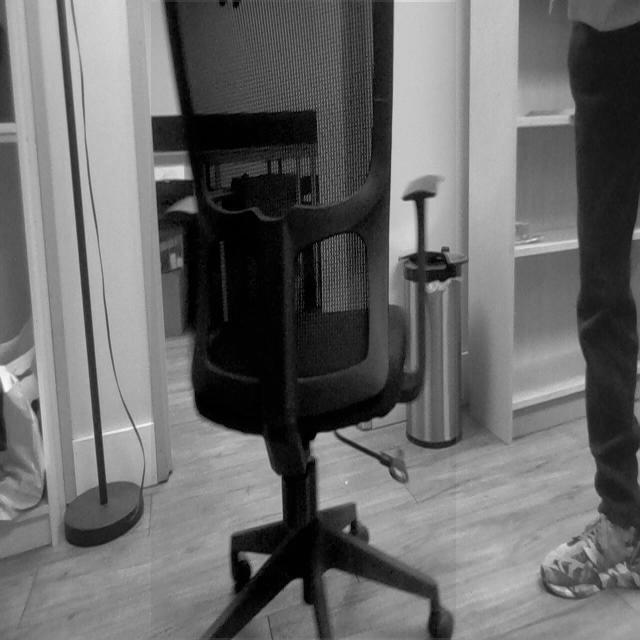chair: (162, 0, 463, 604)
